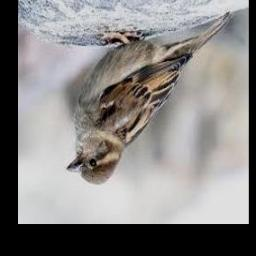Sparrow: (68, 12, 233, 185)
